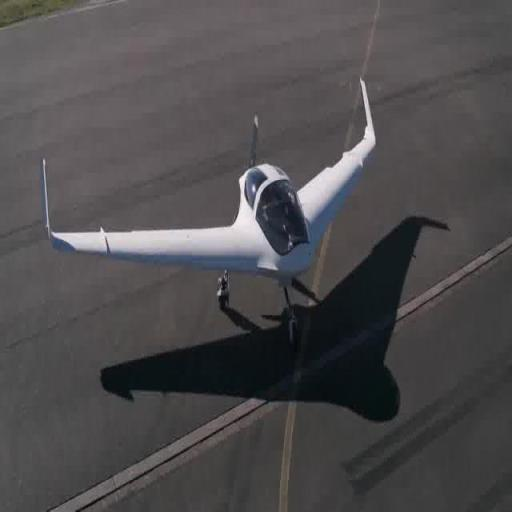uav: (38, 61, 380, 358)
